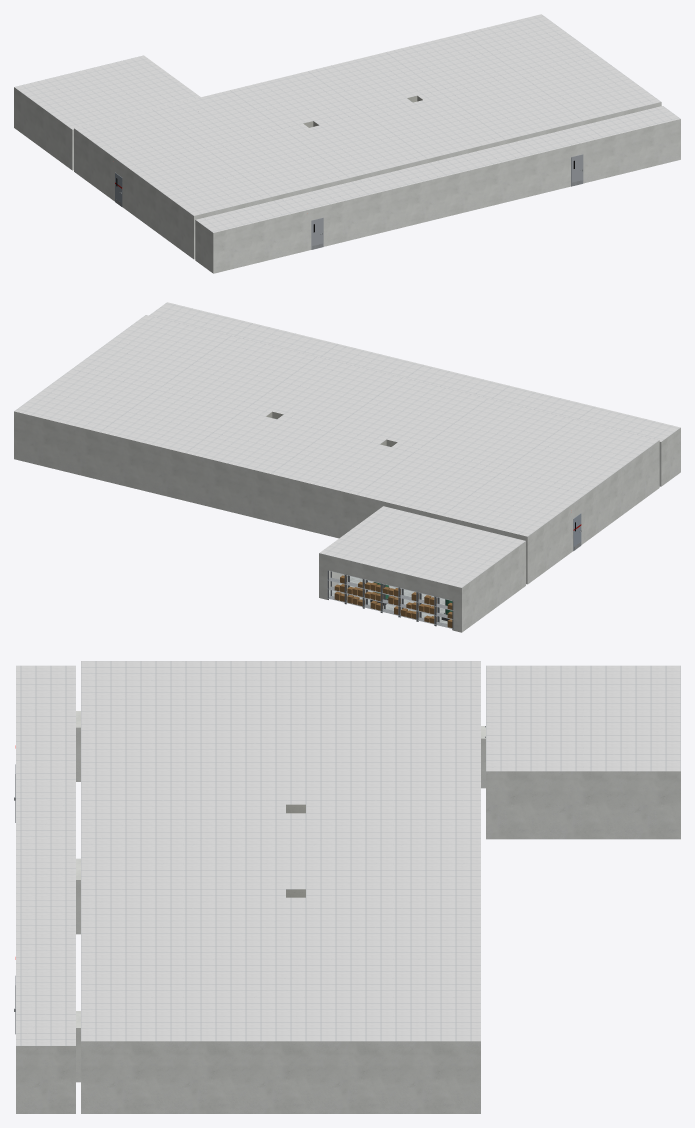
The model's file is labs_b.glb.
3 views of the same model, one above another, from view 1: azimuth 30°, elevation 25°; view 2: azimuth 150°, elevation 25°; view 3: azimuth 270°, elevation 25° (orthographic). The views are drawn at different scales.
Parts seen in each view (by area): view 1: Ceiling_Tile, Wall_Lab; view 2: Ceiling_Tile, Wall_Lab, Cardboard, Steel, Paint_Grey, Floor_Lab; view 3: Ceiling_Tile, Wall_Lab.
Boxes of the visible parts, x1,y1,x2,y2 form: Ceiling_Tile: (14,14,680,232); Wall_Lab: (14,87,680,273); Ceiling_Tile: (14,302,680,587); Wall_Lab: (14,411,680,632); Cardboard: (334,575,452,627); Steel: (328,570,453,628); Paint_Grey: (327,570,453,630); Floor_Lab: (329,576,447,623); Ceiling_Tile: (16,661,680,1045); Wall_Lab: (16,711,680,1113).
Size of the model in its own units: 36.07 by 3.2 by 26.68.
Materials: 31 (9 with a texture image).
